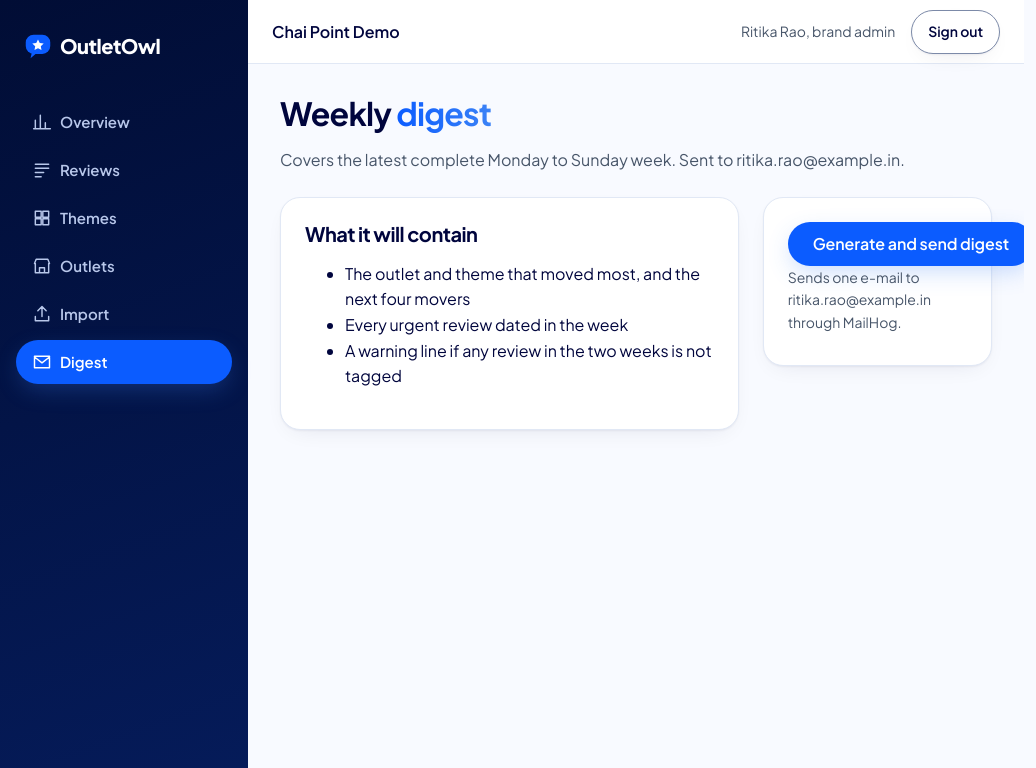
Scenario: DigestPage › MailHog down says what to do
Click the button "Generate and send digest" at (906, 244), box [788,222,1024,266]
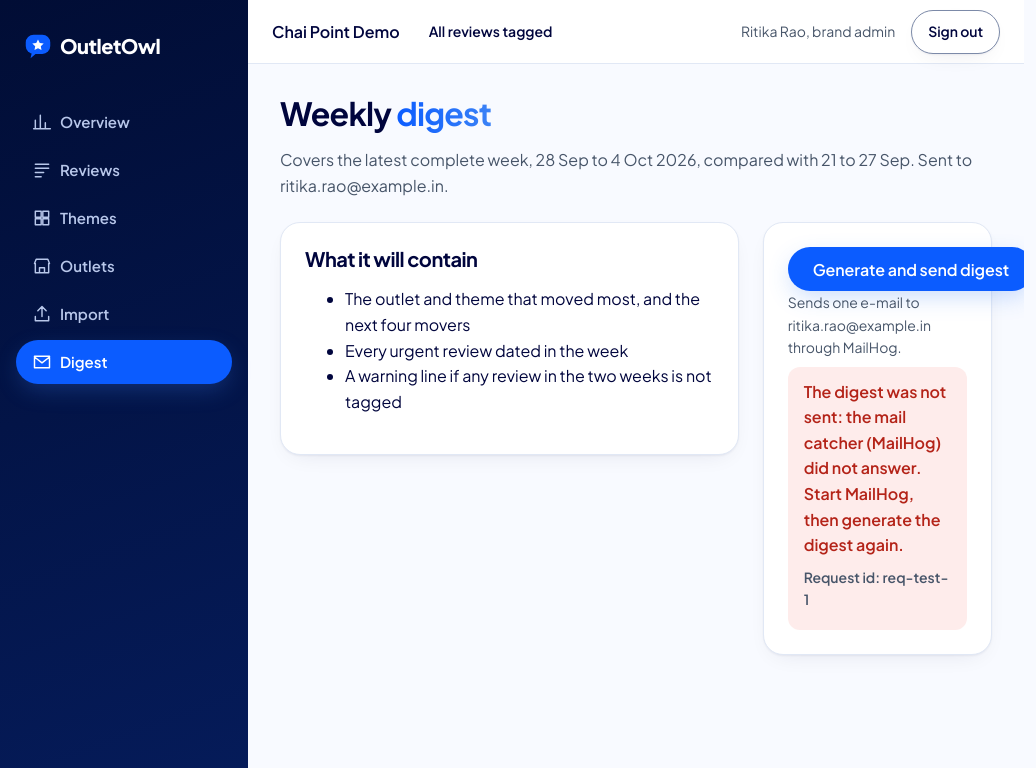
Expected: the message shows "Start MailHog", [804,380,946,555]
